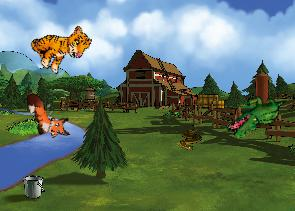crocodile: (224, 81, 288, 150)
fox: (23, 85, 73, 145)
tiger: (25, 11, 95, 80)
